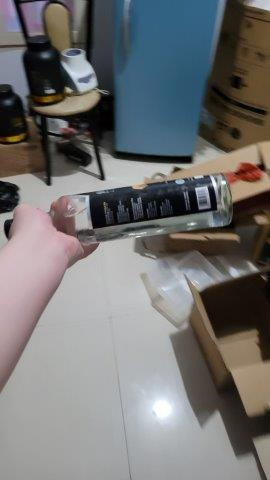botolkaca: (3, 172, 239, 240)
